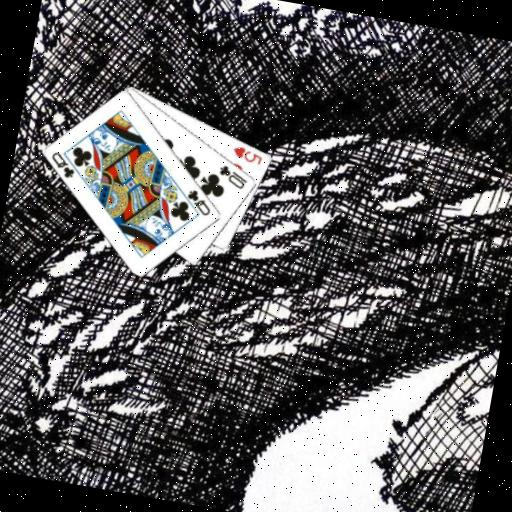10C: (214, 161, 251, 191)
5H: (228, 141, 265, 167)
QC: (45, 148, 79, 181), (181, 186, 215, 218)
